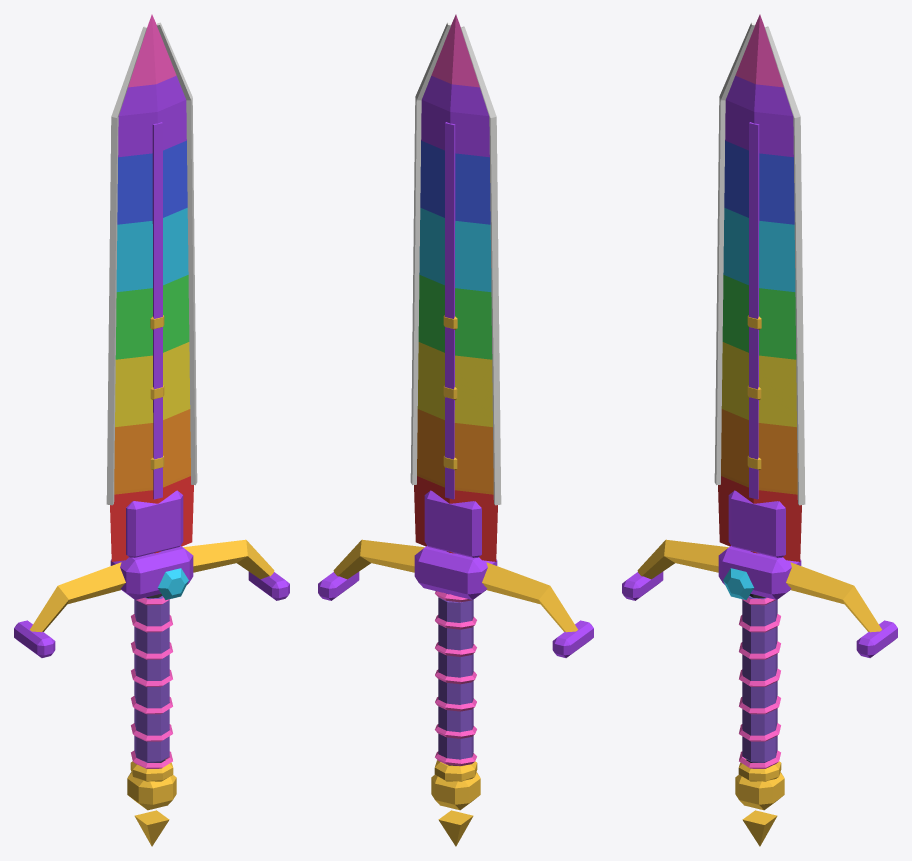
The model's file is RainbowGreatsword.fbx.
3 renders of one model, left to right at view 1: azimuth 30°, elevation 25°; view 2: azimuth 150°, elevation 25°; view 3: azimuth 330°, elevation 25°, orthographic.
Parts seen in each view (by area): view 1: RainbowGreatsword; view 2: RainbowGreatsword; view 3: RainbowGreatsword.
Part boxes in pixels (x1,y1,x2,y2): RainbowGreatsword: (14,14,289,846); RainbowGreatsword: (318,14,593,846); RainbowGreatsword: (622,14,897,846).
Bounding box in the file's own units: 2.26 × 7.12 × 0.6.
Materials: 1 (1 with a texture image).
